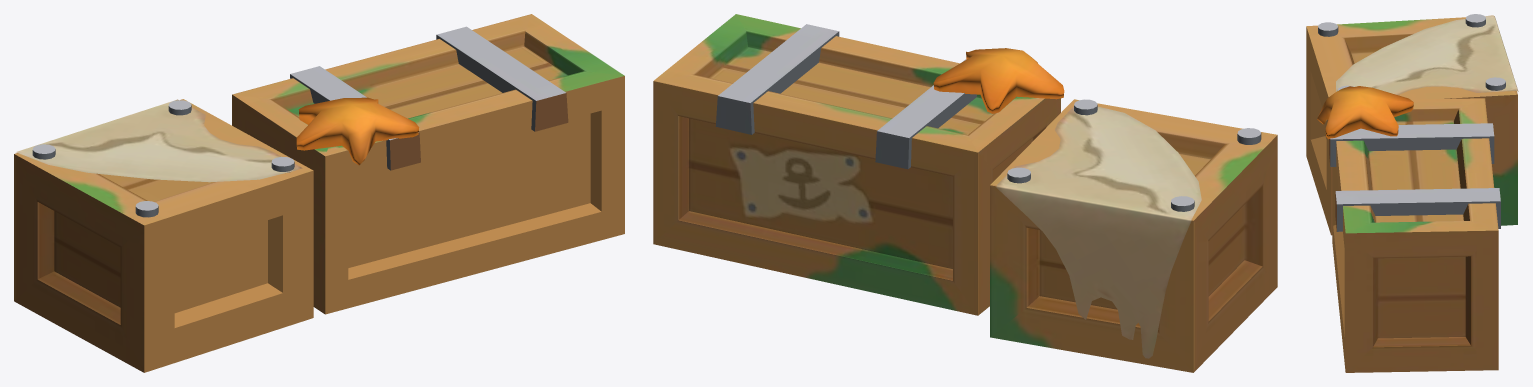
File: NPC_Box_001.glb
The picture shows the model from 3 angles, left to right: view 1: azimuth 30°, elevation 25°; view 2: azimuth 150°, elevation 25°; view 3: azimuth 270°, elevation 25°; orthographic projection. The views are drawn at different scales.
Visible parts, largest first — view 1: NPC_Box_001_mesh; view 2: NPC_Box_001_mesh; view 3: NPC_Box_001_mesh.
Boxes of the visible parts, left/top/right/bottom form: NPC_Box_001_mesh: left=14, top=14, right=624, bottom=372; NPC_Box_001_mesh: left=653, top=14, right=1277, bottom=372; NPC_Box_001_mesh: left=1306, top=14, right=1518, bottom=372.
Size of the model in its own units: 3.49 by 1.19 by 1.38.
1 material, 1 textured.
